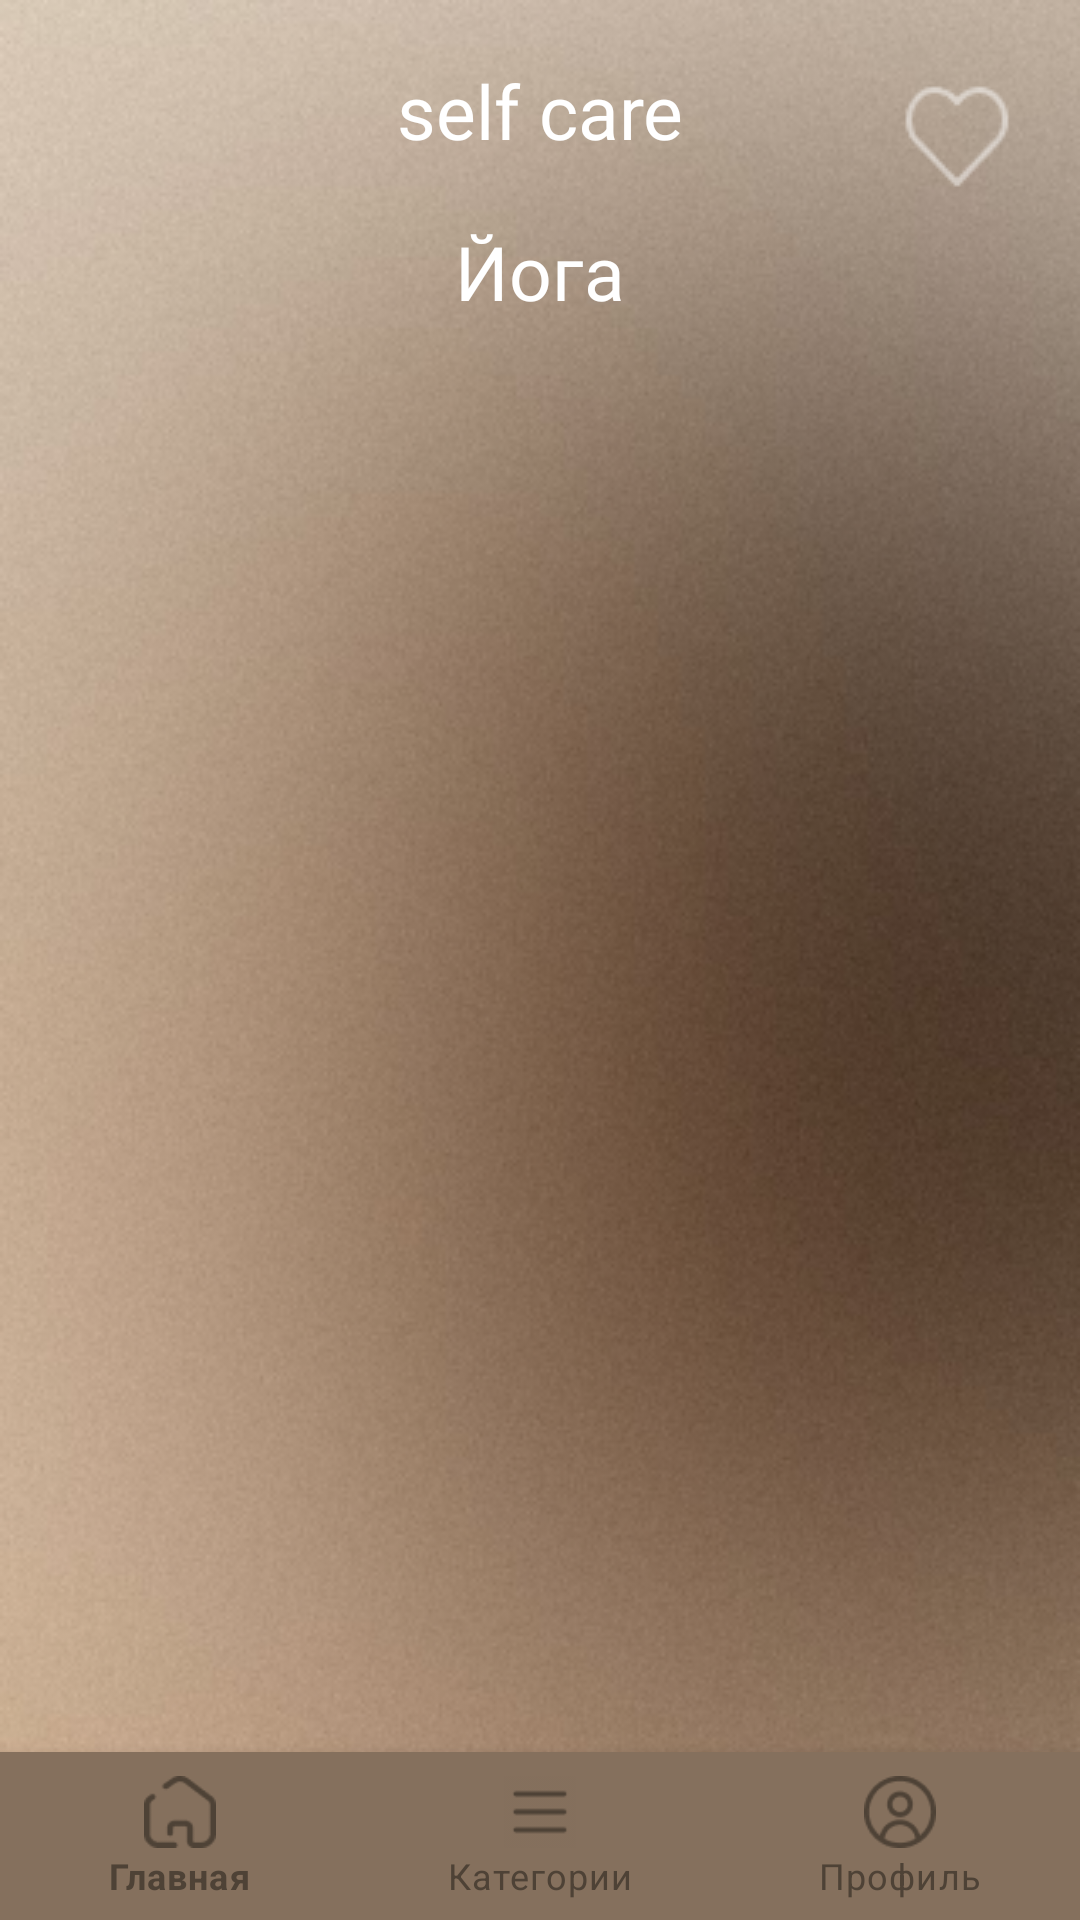

Locate icon controls on the screen. Image size 1080px×1920px, boxes as Rect(x1, y1, x2, y2).
favorite: Rect(879, 79, 1032, 213)
